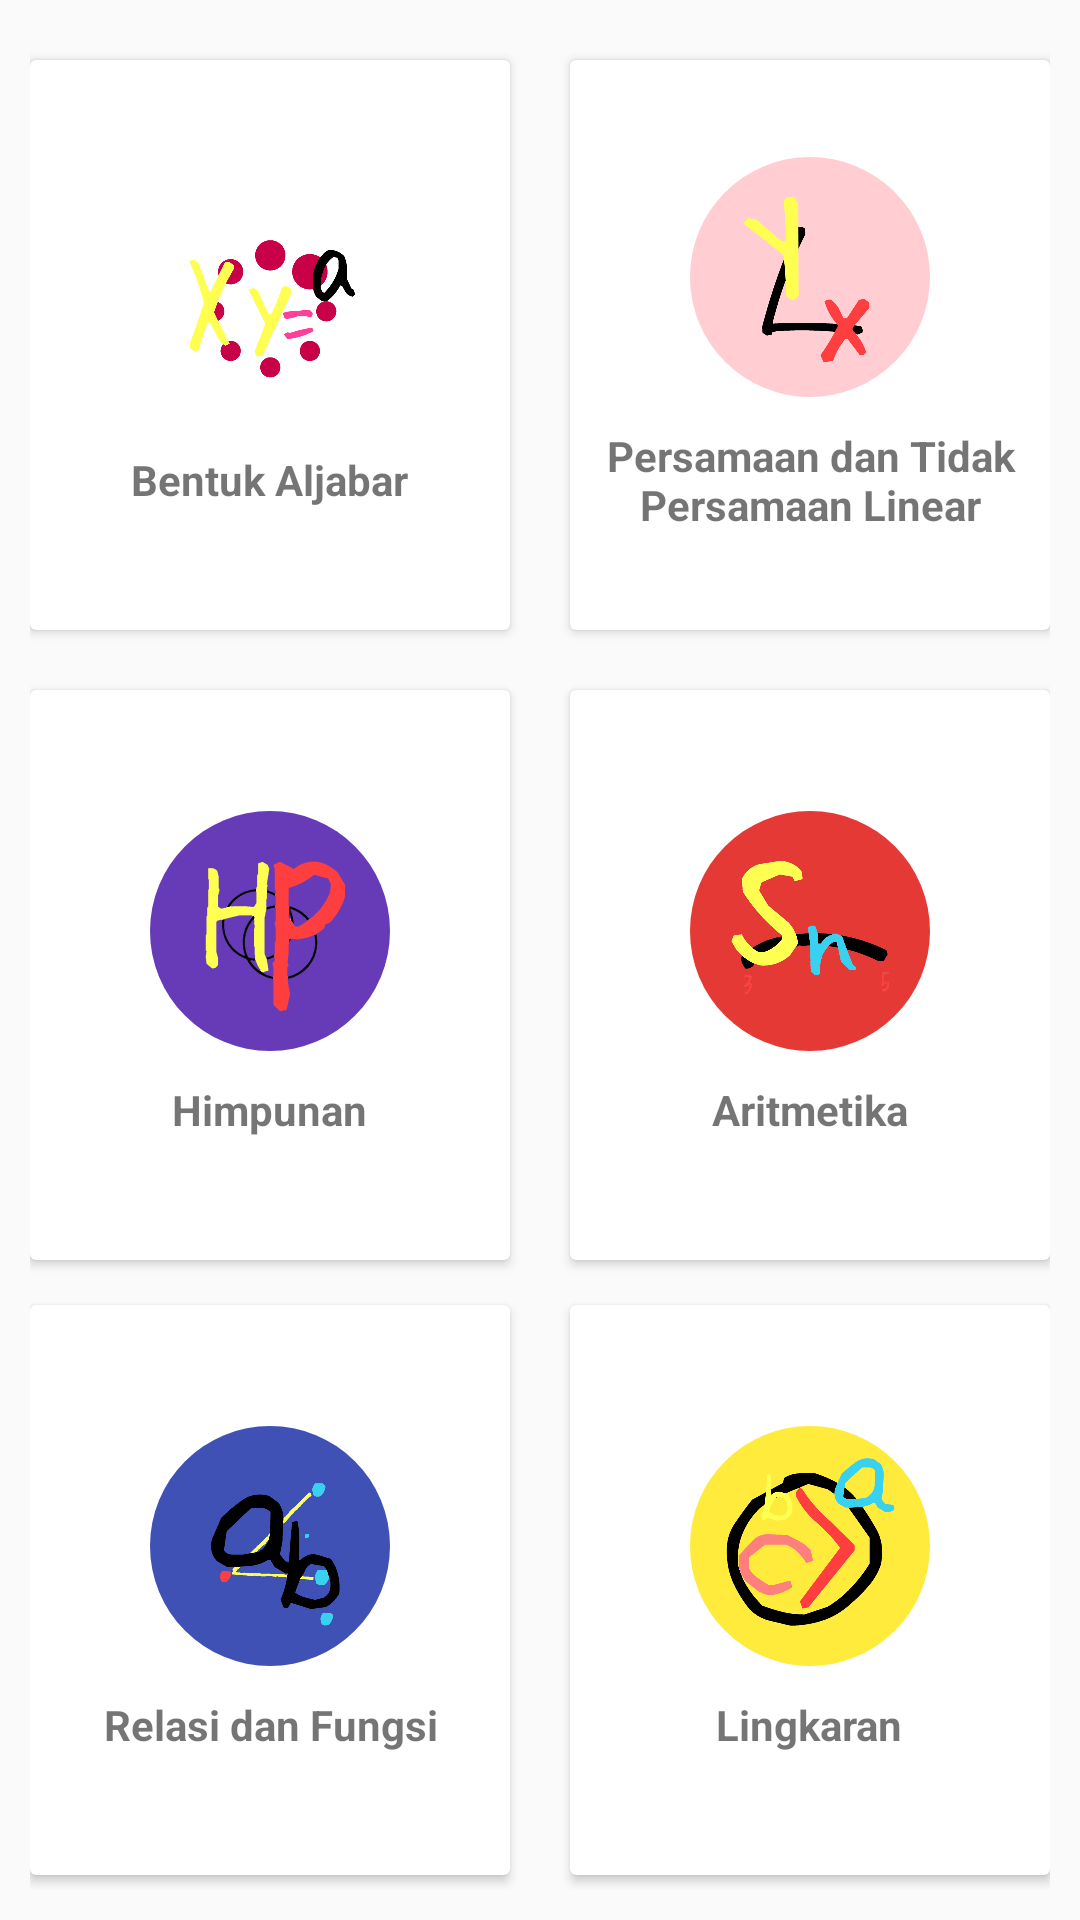

Icon bounding boxes for this 1080 x 1920 phone screenshot, format detection(x1, y1, x2, y2):
iconaljabar: detection(189, 240, 355, 378)
